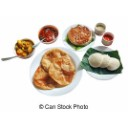poori: (49, 57, 74, 85), (42, 49, 69, 72), (34, 67, 59, 91)
